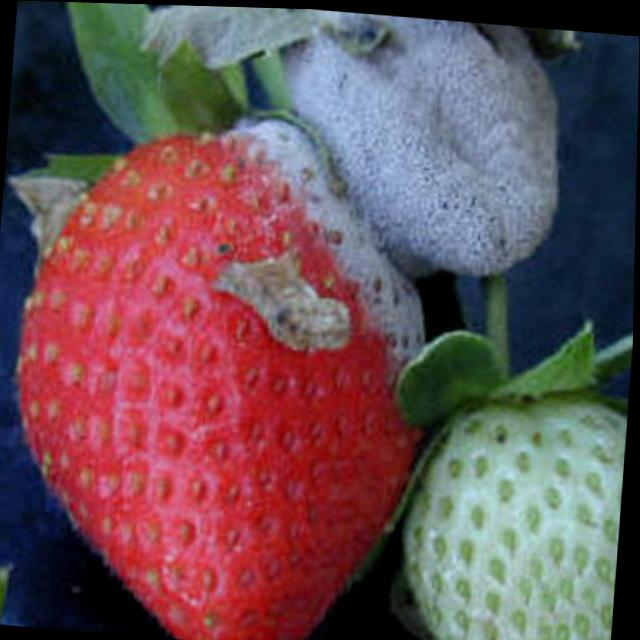Gray Mold: (16, 118, 433, 640), (267, 7, 577, 273)
